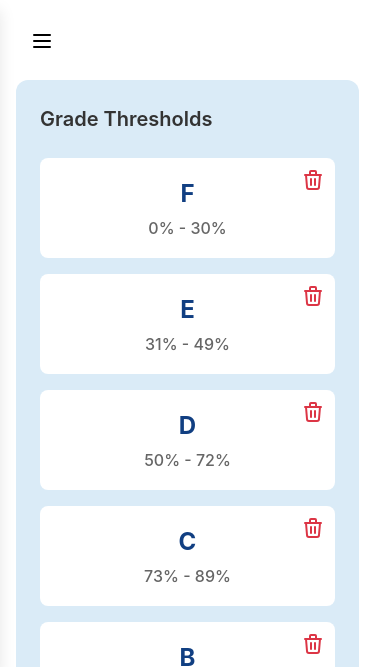
it: Responsive Design › Mobile View › should open sidebar when mobile toggle is clicked
The image size is (375, 667).
Step 1. Click the button with test id "mobile-nav-button" → (42, 42), box [24,24,60,60]
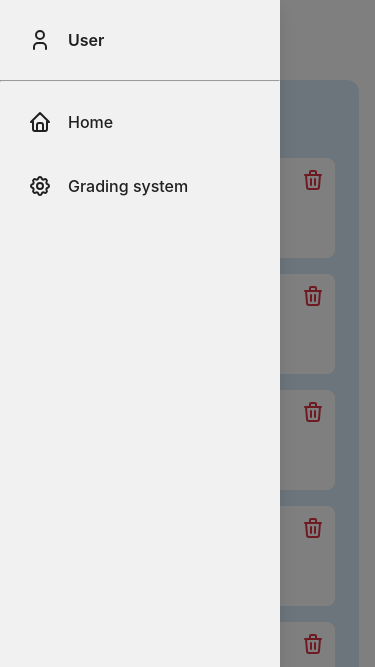
Result: the element with test id "sidebar-overlay" is shown
